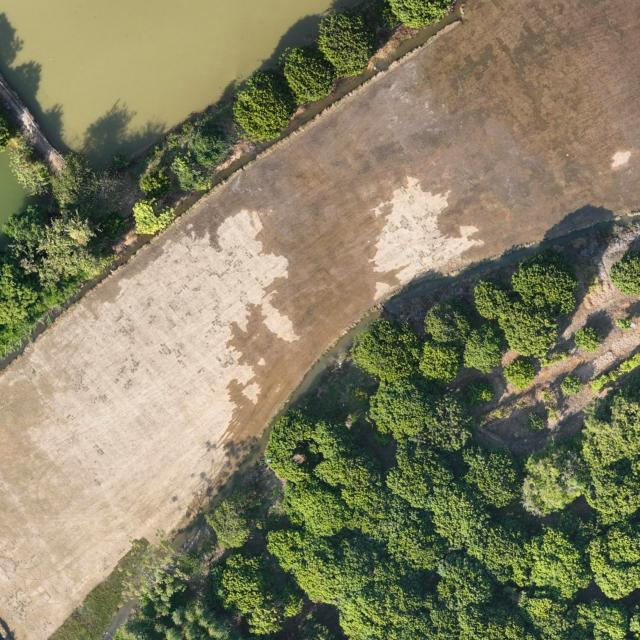Tree: (582, 392, 640, 518), (37, 208, 104, 288), (232, 67, 296, 145), (520, 447, 590, 518), (524, 527, 592, 600), (348, 316, 419, 383), (509, 246, 581, 312), (466, 514, 527, 591), (385, 440, 452, 509), (428, 484, 493, 553), (585, 520, 640, 601), (367, 378, 433, 443), (458, 444, 522, 508), (318, 7, 374, 78), (408, 394, 470, 453), (283, 46, 338, 106), (498, 304, 560, 357), (0, 247, 38, 331), (423, 294, 471, 344), (76, 168, 128, 214), (1, 202, 50, 247), (385, 0, 458, 30), (415, 339, 461, 386), (462, 322, 502, 374), (473, 277, 511, 321), (132, 198, 176, 235), (606, 250, 640, 293), (502, 358, 538, 391), (572, 326, 603, 352), (0, 102, 12, 156)
